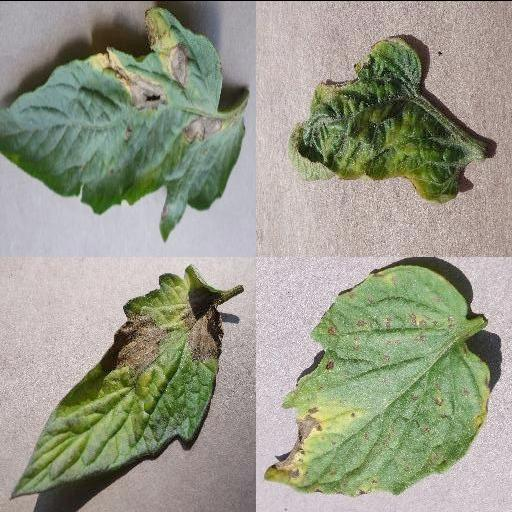Early Blight: (1, 9, 245, 239)
Late Blight: (7, 263, 225, 501)
Septoria: (263, 264, 491, 493)
Yellow Leaf Curl Virus: (290, 36, 468, 204)
